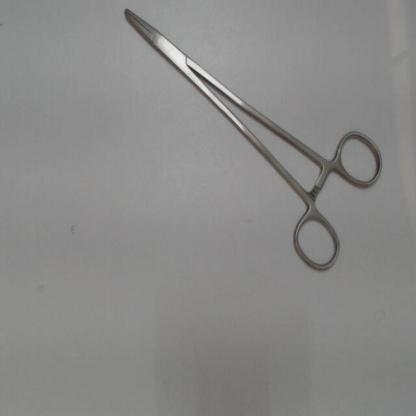8 Mayo Needle Holder: (112, 2, 388, 280)
